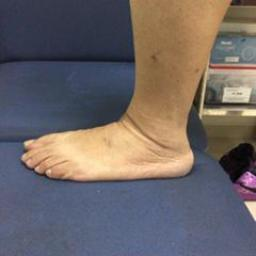Lateral View -Left Foot-: (16, 88, 202, 190)
